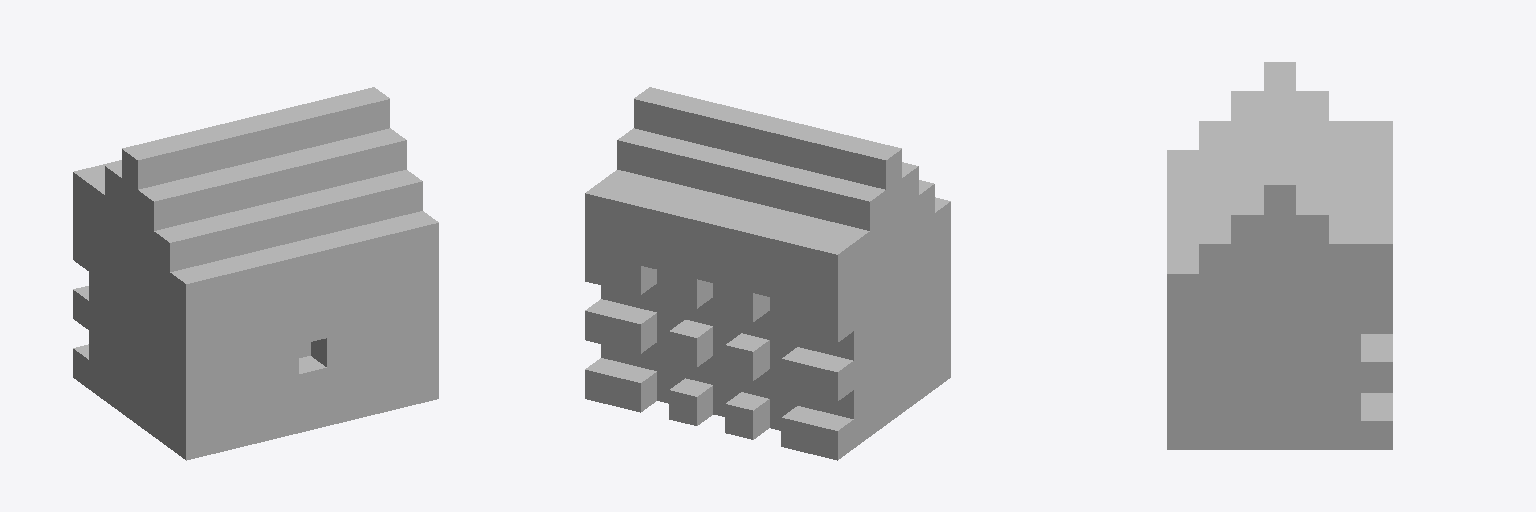
File: cheat-loot.obj
3 views of the same model, side by side, from view 1: azimuth 30°, elevation 25°; view 2: azimuth 150°, elevation 25°; view 3: azimuth 270°, elevation 25° (orthographic).
Size of the model in its own units: 9 by 9 by 7.